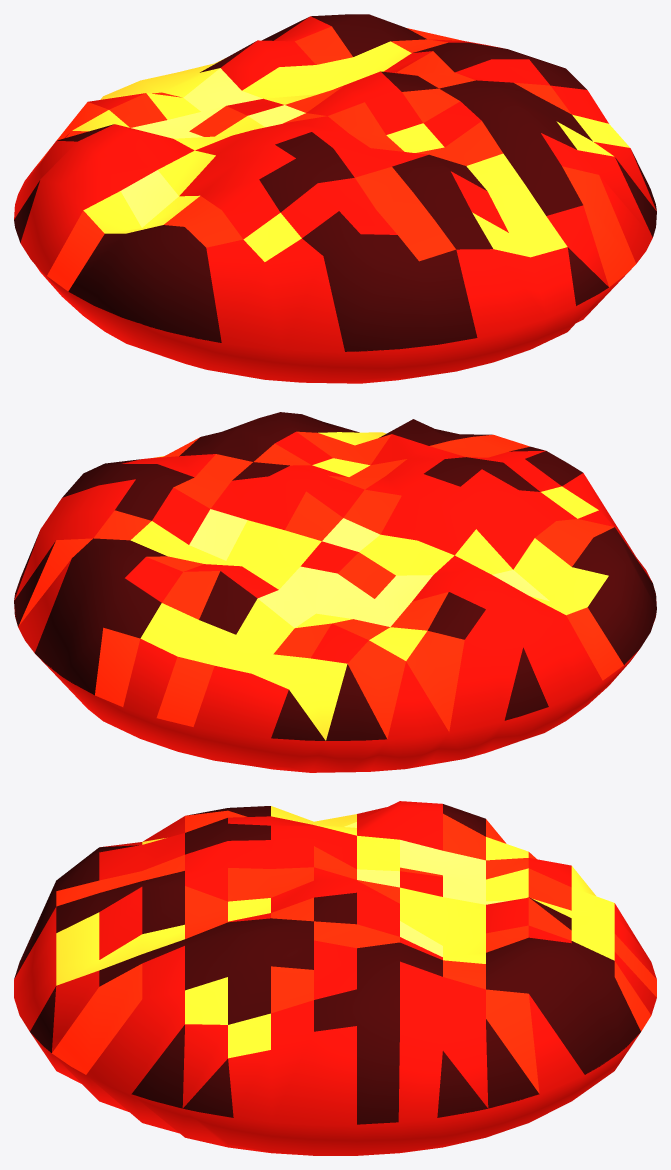
File: newsh3-229-f3.glb
3 renders of one model, top to bottom at view 1: azimuth 30°, elevation 25°; view 2: azimuth 150°, elevation 25°; view 3: azimuth 270°, elevation 25°, orthographic.
Parts seen in each view (by area): view 1: newsh3-229-f3; view 2: newsh3-229-f3; view 3: newsh3-229-f3.
Part boxes in pixels (box(x1,y1,x2,y2)): newsh3-229-f3: box(14, 14, 656, 383); newsh3-229-f3: box(14, 412, 656, 772); newsh3-229-f3: box(14, 801, 656, 1155).
Bounding box in the file's own units: 1.25 × 0.4755 × 1.25.
